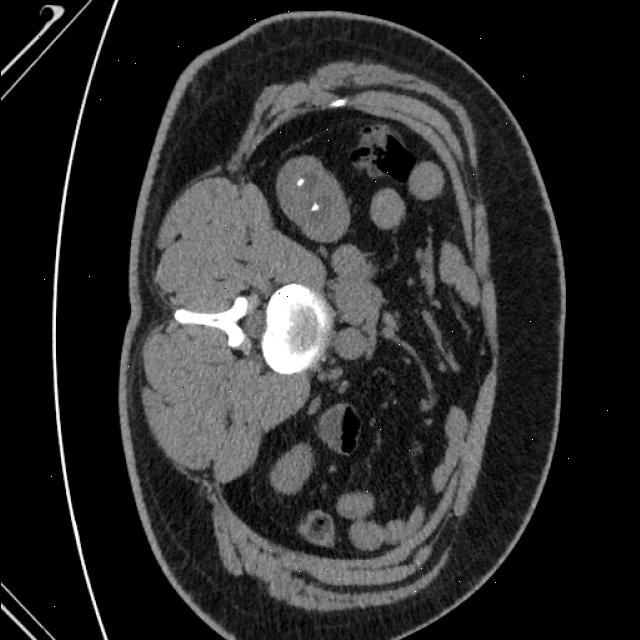kidneystone: (296, 179, 304, 188), (310, 202, 318, 211)
